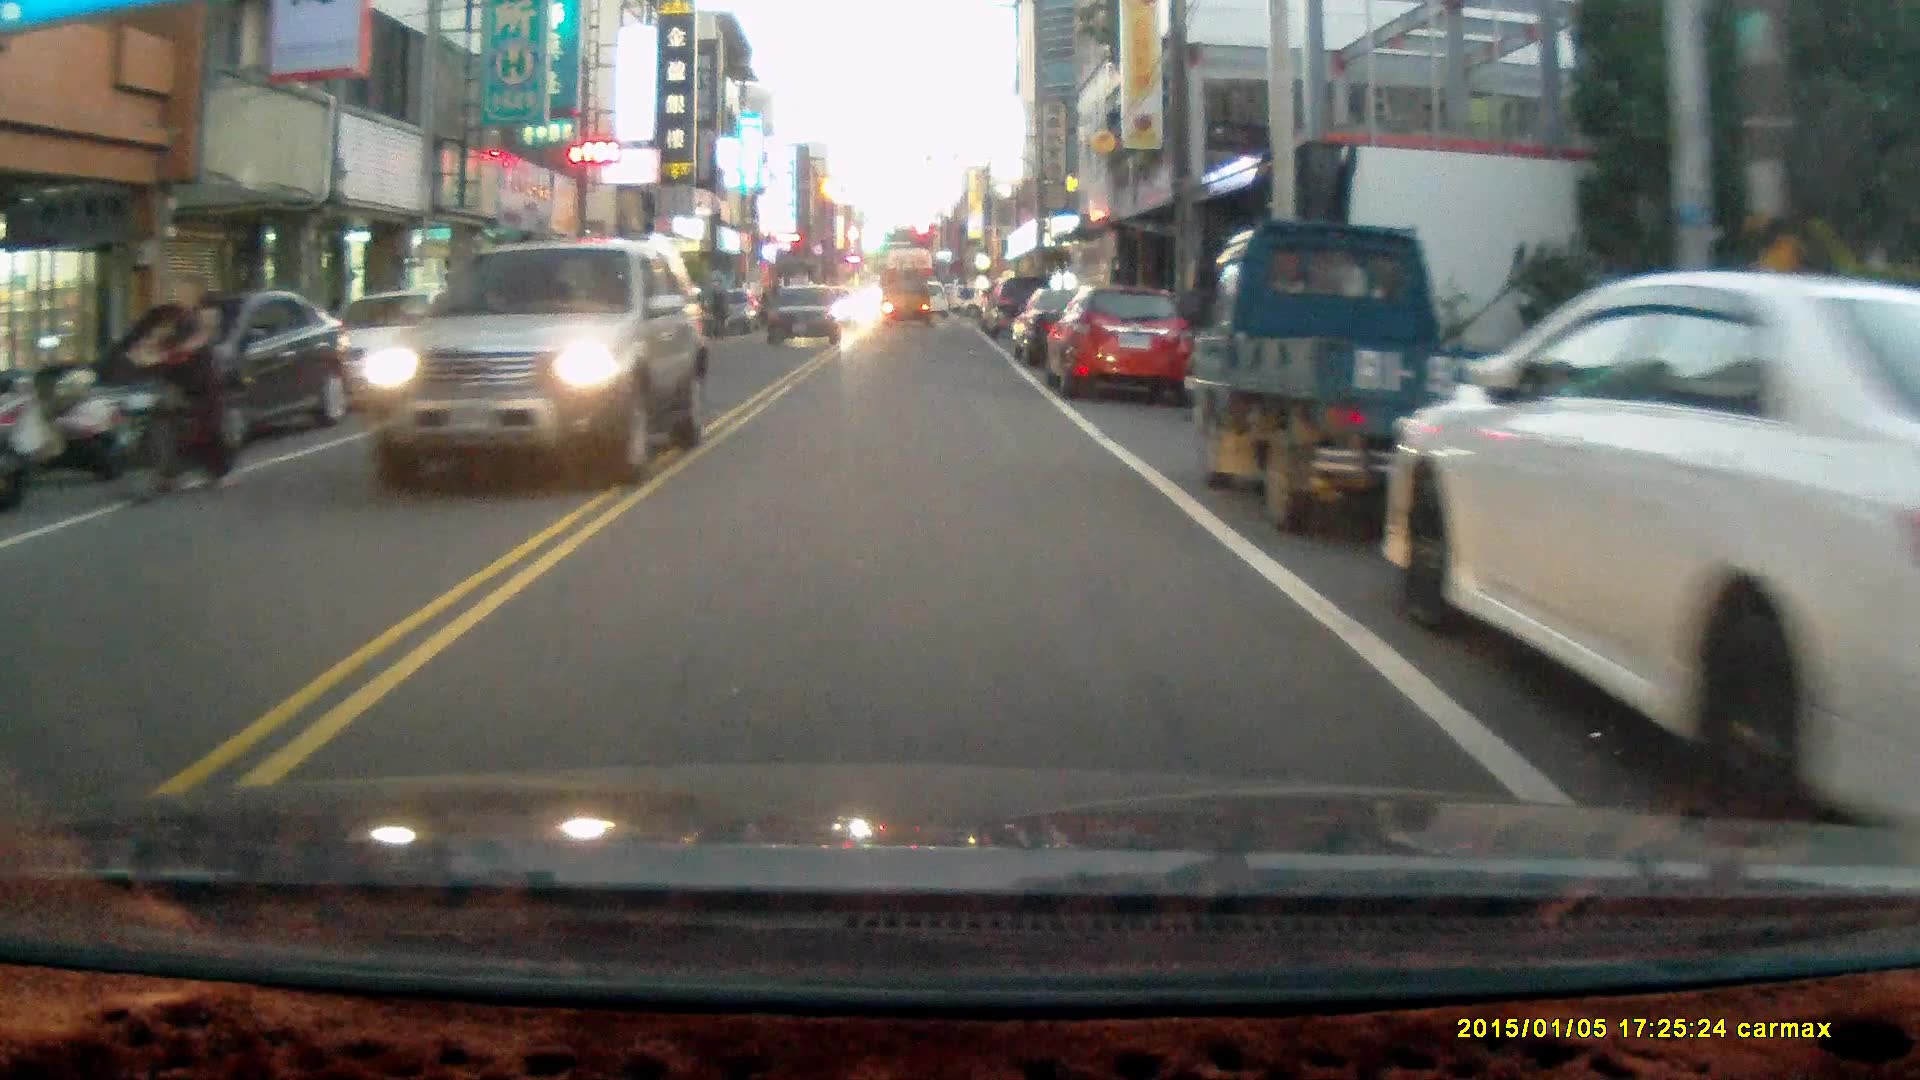pedestrian: (707, 279, 730, 336)
rider: (103, 266, 235, 507)
vehicle: (1381, 273, 1920, 850), (1192, 221, 1574, 544), (361, 242, 709, 488), (1049, 287, 1193, 403), (1006, 286, 1133, 377), (769, 284, 841, 351), (879, 271, 933, 332)
